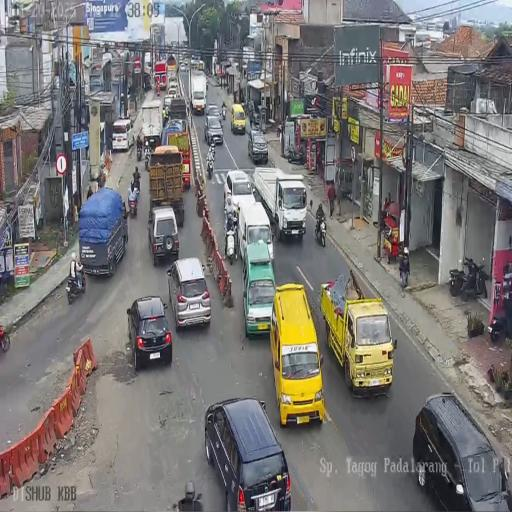car: (413, 392, 510, 508), (204, 398, 290, 510), (274, 286, 326, 424), (126, 293, 173, 370), (166, 256, 211, 330), (242, 242, 276, 334), (223, 168, 253, 227), (112, 117, 134, 153), (248, 127, 269, 164), (204, 109, 223, 145), (231, 104, 246, 134), (163, 94, 174, 117), (180, 62, 187, 72)
motorcycle: (448, 255, 487, 302), (490, 304, 512, 341), (66, 266, 85, 304), (314, 211, 326, 246), (286, 145, 306, 166), (128, 185, 140, 217), (206, 143, 216, 178), (144, 142, 152, 168), (136, 140, 143, 161), (276, 123, 282, 138), (222, 106, 226, 120), (156, 82, 160, 96), (205, 78, 209, 89)
truck: (318, 271, 392, 398), (78, 188, 126, 278), (256, 164, 306, 244), (147, 144, 186, 233), (140, 100, 163, 155), (190, 70, 207, 116), (154, 59, 168, 91), (167, 75, 179, 98), (198, 58, 204, 70)
